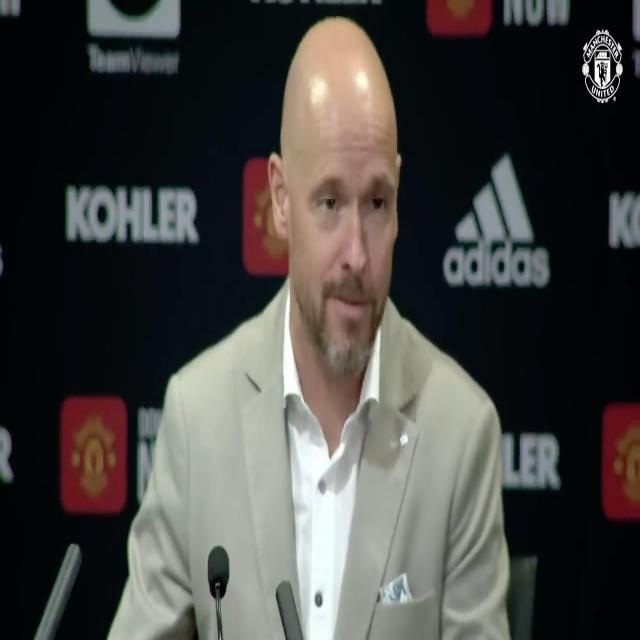Adidas: (442, 151, 550, 289)
Kohler: (65, 185, 198, 244)
TeamViewer: (88, 1, 180, 74)
